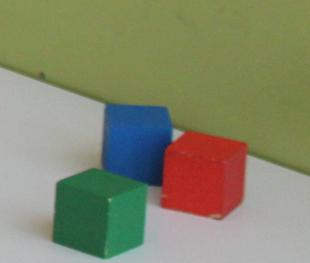bluecube: (106, 104, 174, 187)
green cube: (49, 164, 145, 257)
red cube: (161, 129, 250, 220)
